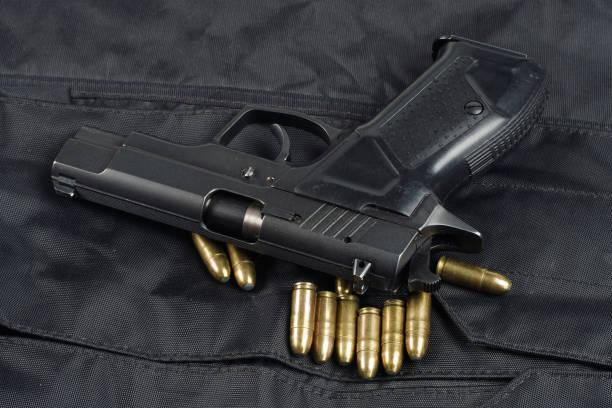weapon: (51, 30, 551, 299)
